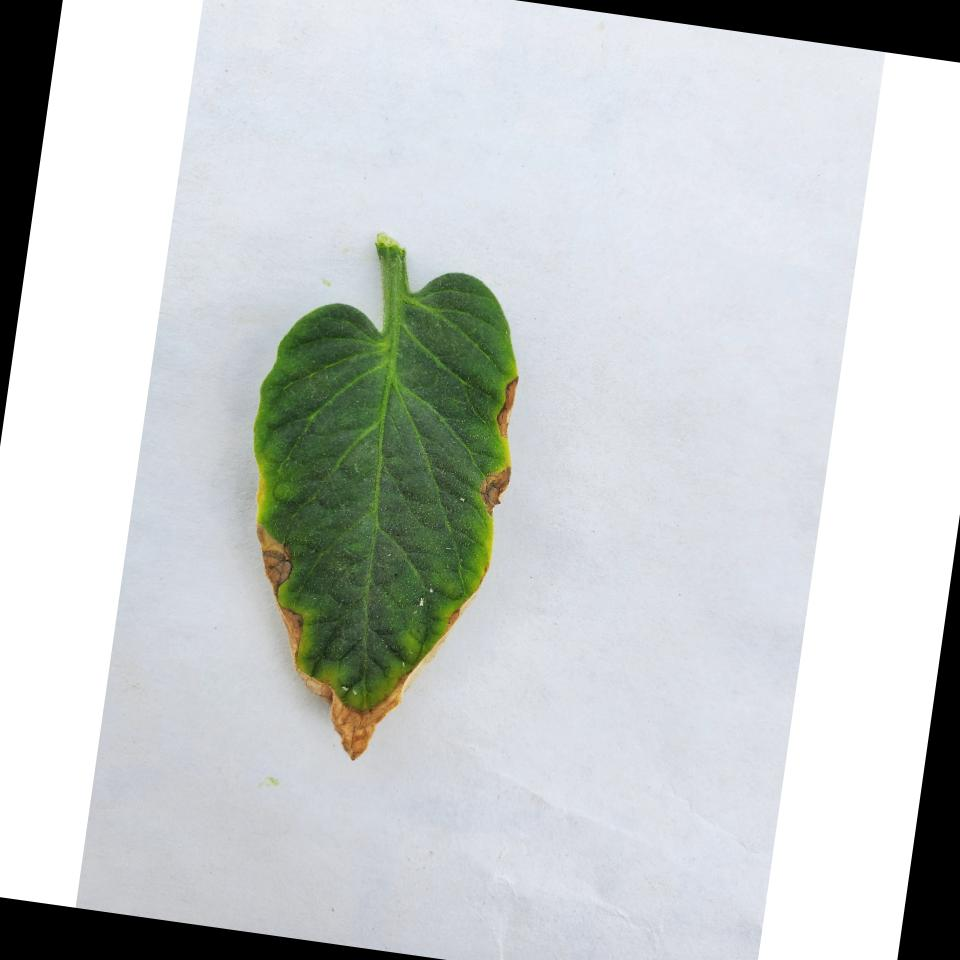tomato_bacterial_blight: (197, 209, 540, 780)
